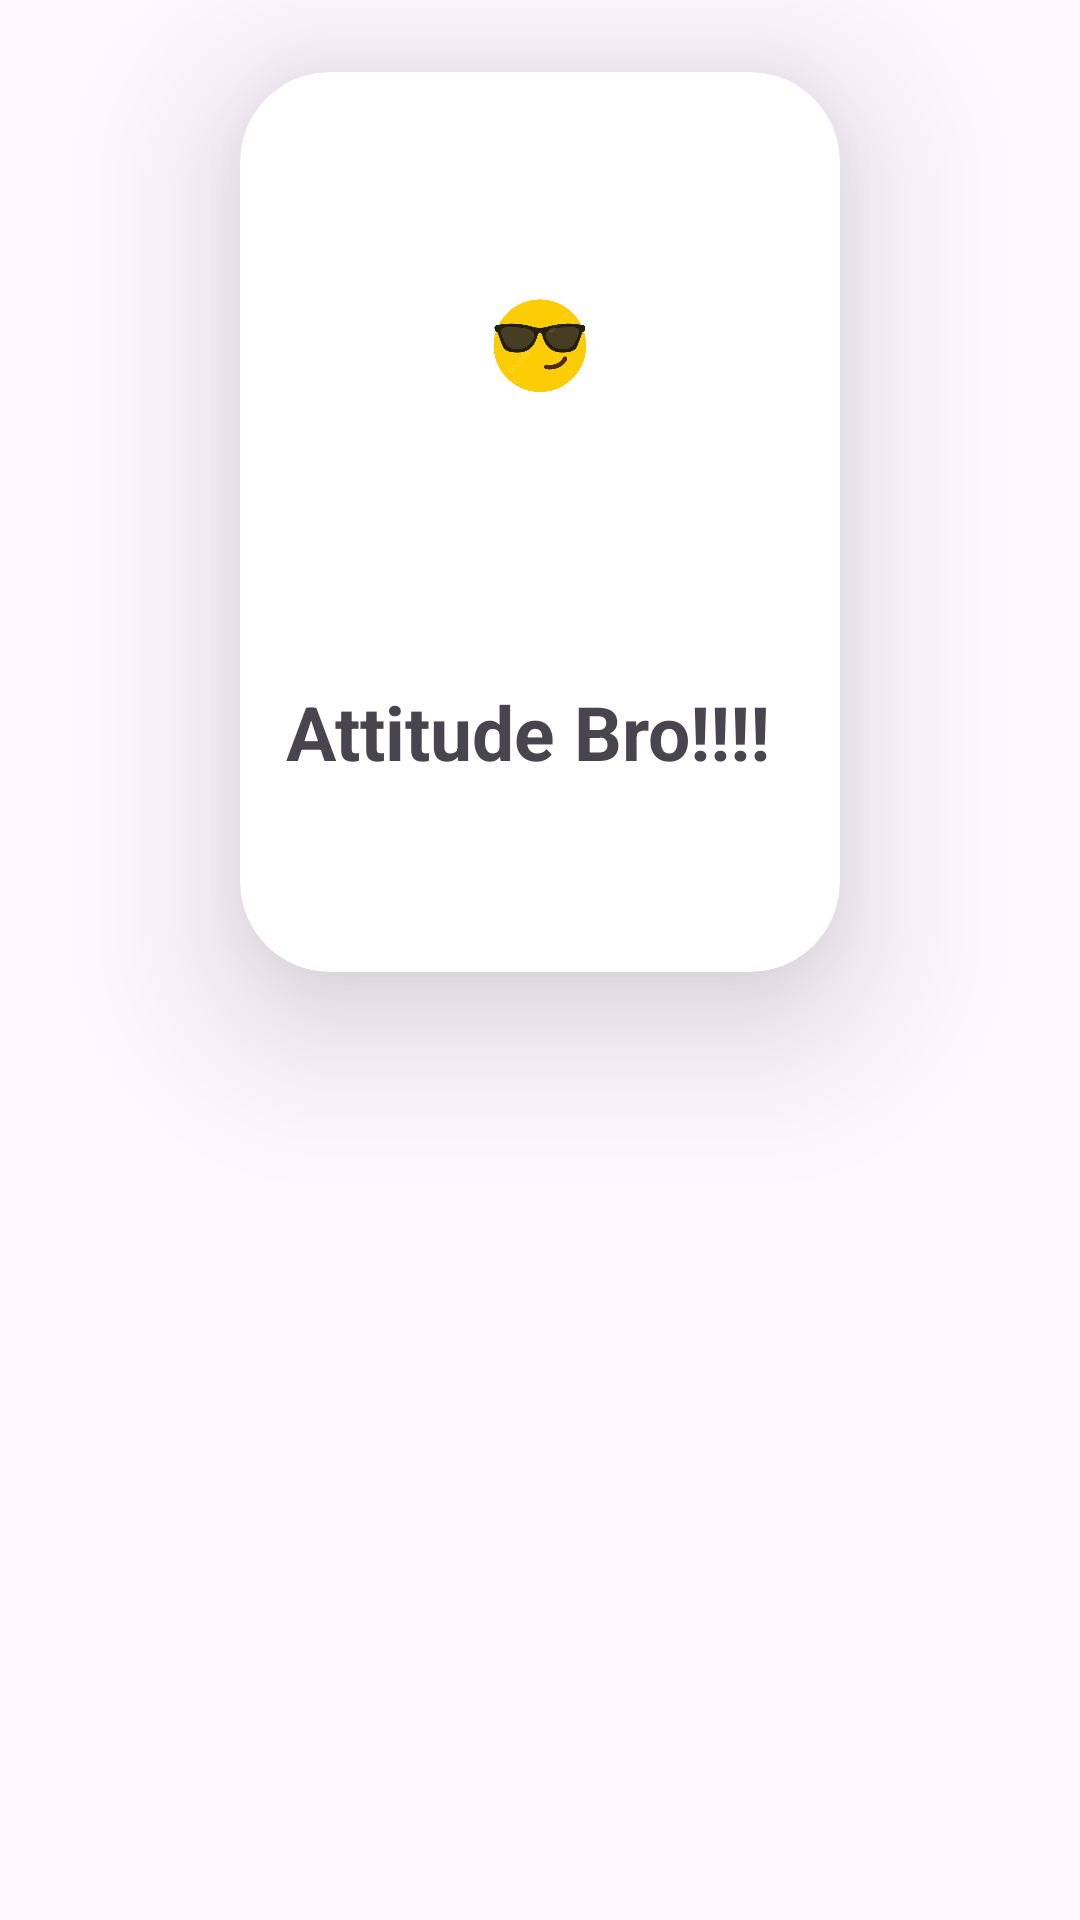

Point at icon controls on the screen. Image size 1080px×1920px, points as point (x, y).
emojie: point (539, 345)
